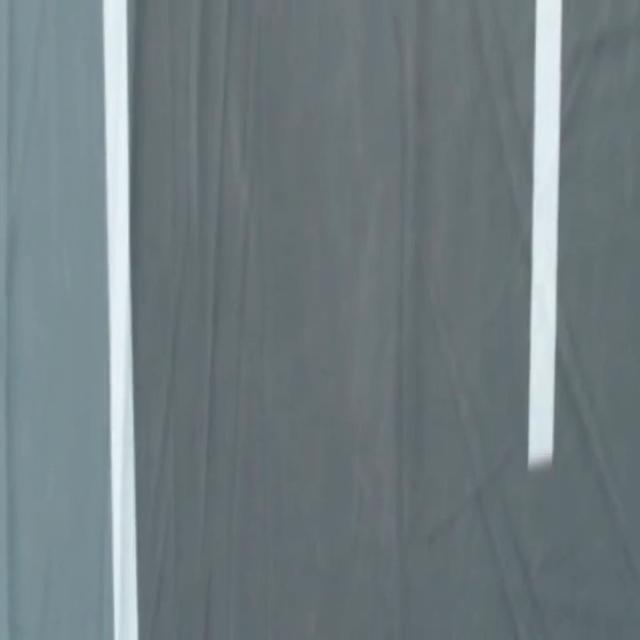center: (529, 0, 562, 468)
left: (102, 0, 138, 639)
